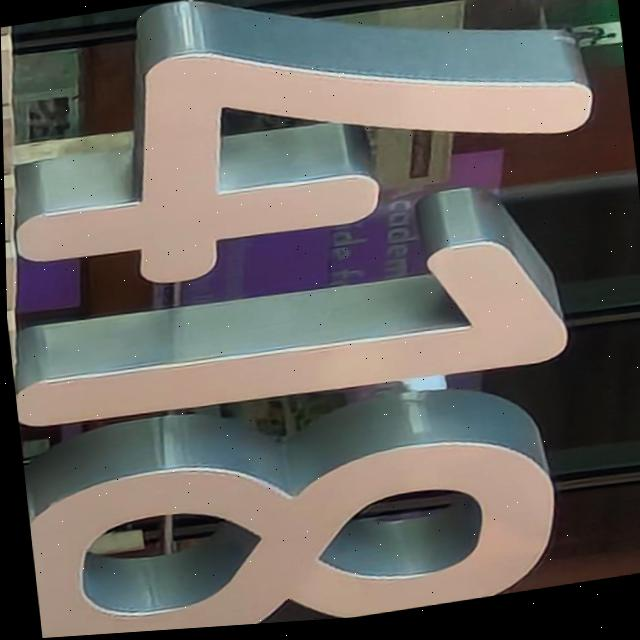character: (1, 0, 608, 311), (23, 403, 573, 639), (6, 224, 575, 449)
